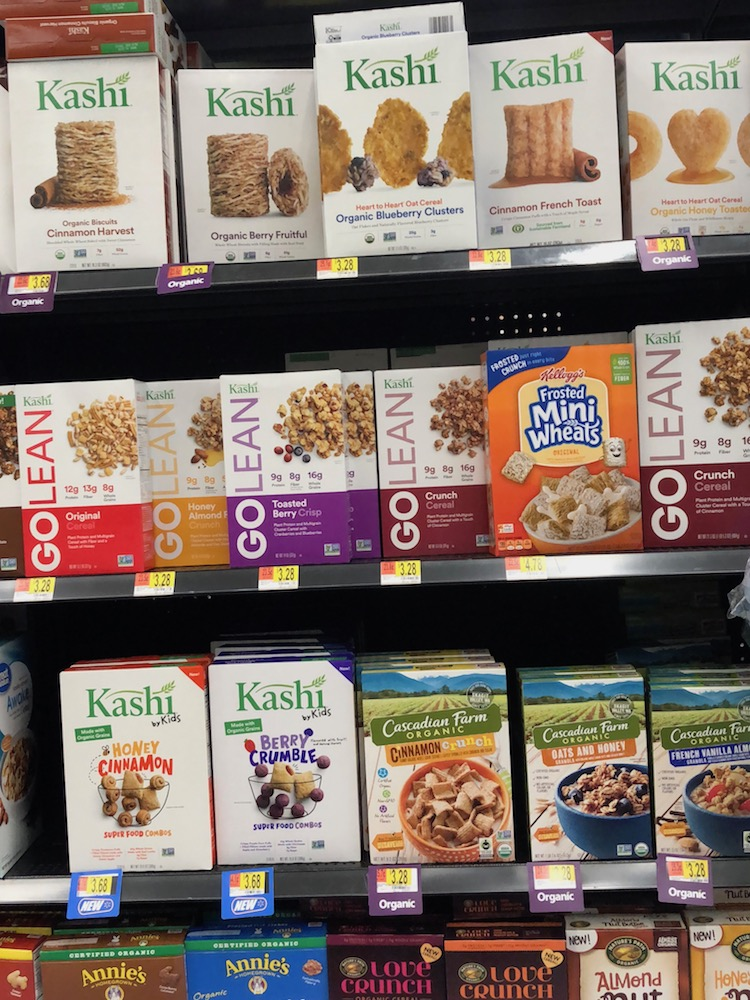Frosted Mini Original -9295869: (486, 350, 644, 553)
